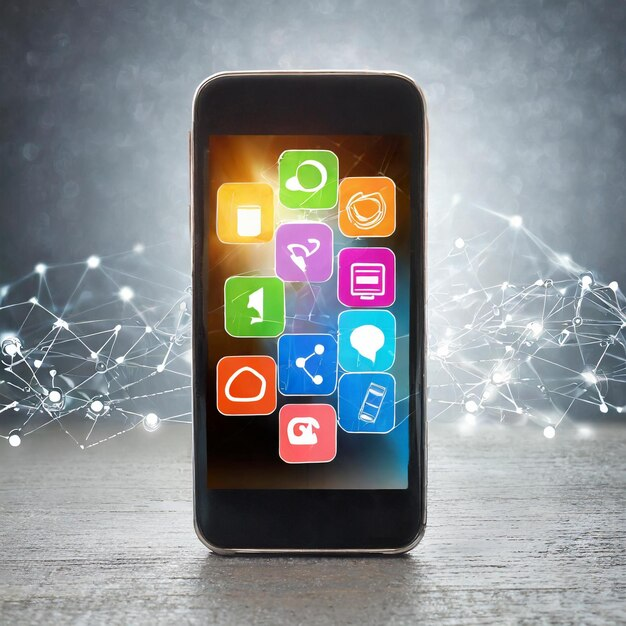mobile: (193, 69, 420, 545)
